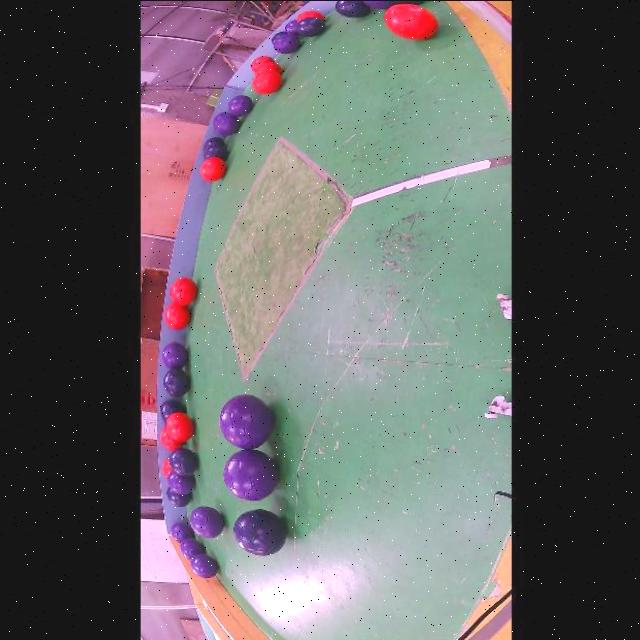B: (234, 508, 285, 556), (169, 446, 198, 476), (164, 367, 190, 396), (336, 0, 371, 18), (160, 398, 186, 420), (297, 16, 325, 36), (167, 486, 192, 507), (204, 143, 229, 159)
P: (220, 394, 275, 449), (223, 449, 279, 500), (190, 505, 225, 538), (163, 341, 189, 369), (190, 553, 218, 578), (213, 110, 240, 135), (168, 470, 195, 494), (274, 32, 301, 52), (229, 94, 253, 116), (180, 538, 206, 558), (172, 522, 195, 541), (363, 0, 398, 9)
R: (385, 3, 439, 38), (165, 277, 196, 329), (165, 411, 194, 441), (171, 277, 198, 305), (253, 69, 283, 94), (200, 156, 226, 181), (160, 427, 183, 450), (252, 55, 274, 72), (257, 60, 283, 73), (163, 458, 172, 477)
